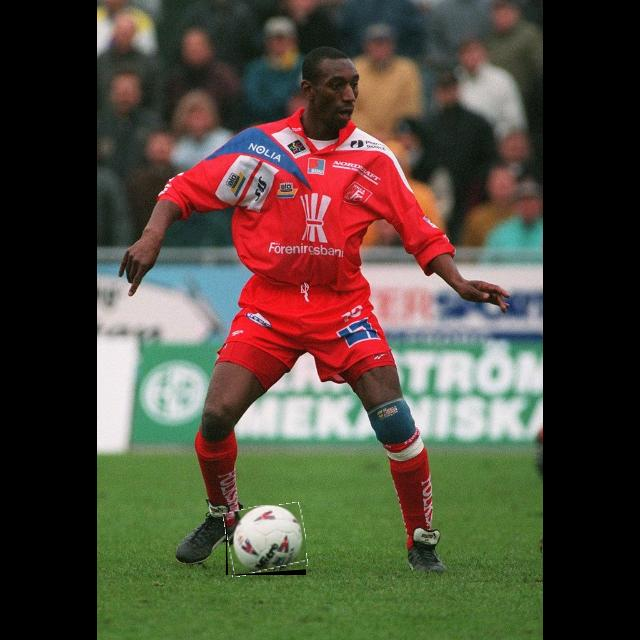Football: (226, 505, 306, 575)
